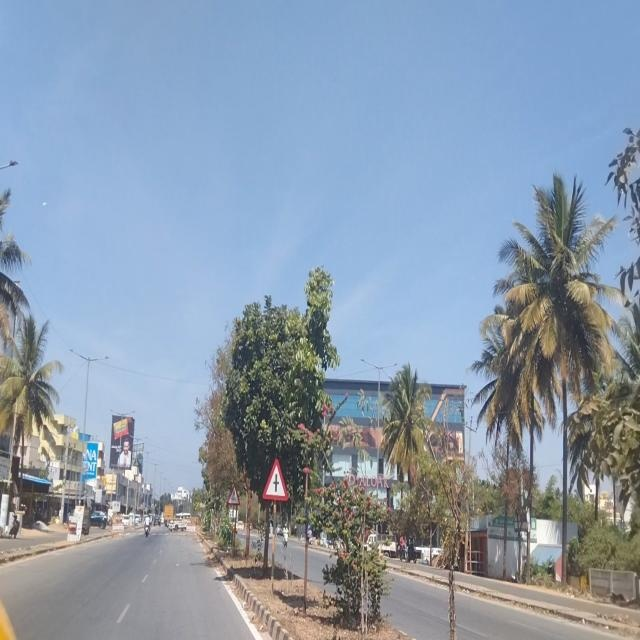bien_nguy_hiem: (262, 458, 289, 503), (228, 484, 240, 507)
